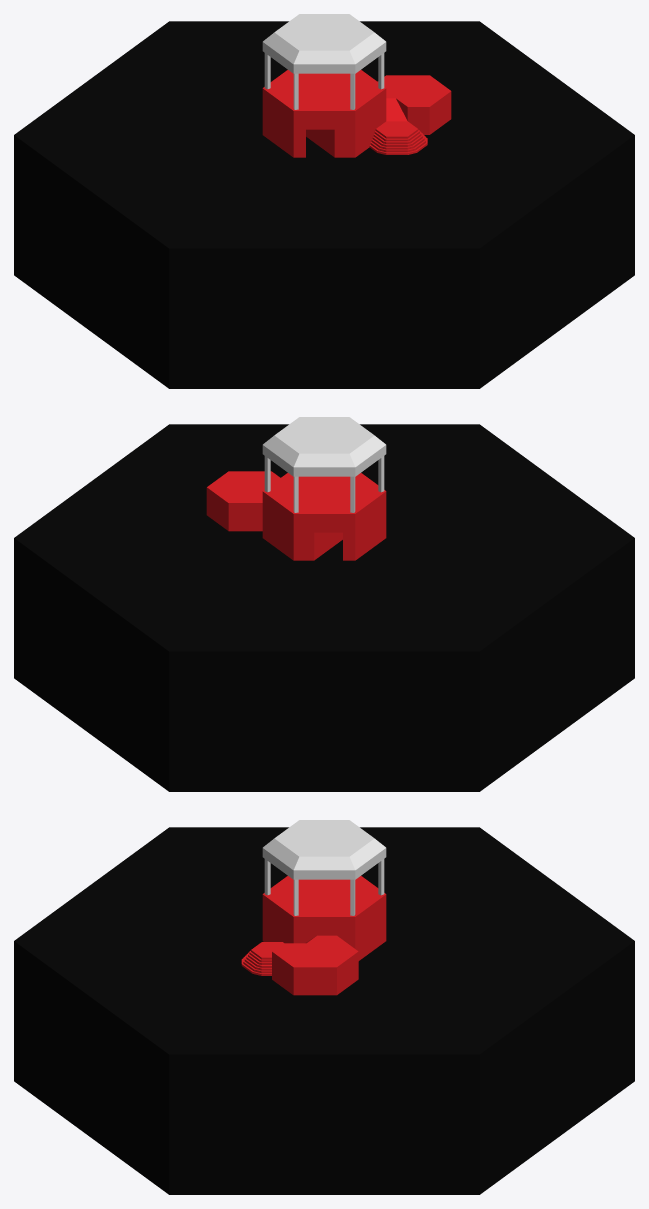
The model's file is VR_Test_Level.fbx.
The picture shows the model from 3 angles, top to bottom: view 1: azimuth 30°, elevation 25°; view 2: azimuth 150°, elevation 25°; view 3: azimuth 270°, elevation 25°; orthographic projection.
Parts seen in each view (by area): view 1: Circle, Cylinder, Cylinder.003, Cylinder.001, Cylinder.002, Cube; view 2: Circle, Cylinder, Cylinder.003, Cylinder.001, Cube; view 3: Circle, Cylinder, Cylinder.003, Cylinder.001, Cube, Cylinder.002.
Part boxes in pixels (<box>): Circle: <box>14,21,634,388</box>; Cylinder: <box>262,70,386,157</box>; Cylinder.003: <box>262,14,386,73</box>; Cylinder.001: <box>377,75,451,134</box>; Cylinder.002: <box>369,121,427,154</box>; Cube: <box>264,53,384,109</box>; Circle: <box>14,424,634,791</box>; Cylinder: <box>262,473,386,560</box>; Cylinder.003: <box>262,417,386,476</box>; Cylinder.001: <box>206,471,280,531</box>; Cube: <box>264,456,384,512</box>; Circle: <box>14,827,634,1194</box>; Cylinder: <box>262,876,386,960</box>; Cylinder.003: <box>262,820,386,879</box>; Cylinder.001: <box>272,935,358,995</box>; Cube: <box>264,859,384,915</box>; Cylinder.002: <box>241,942,283,975</box>.
Size of the model in its own units: 10421 by 5194 by 12033.
